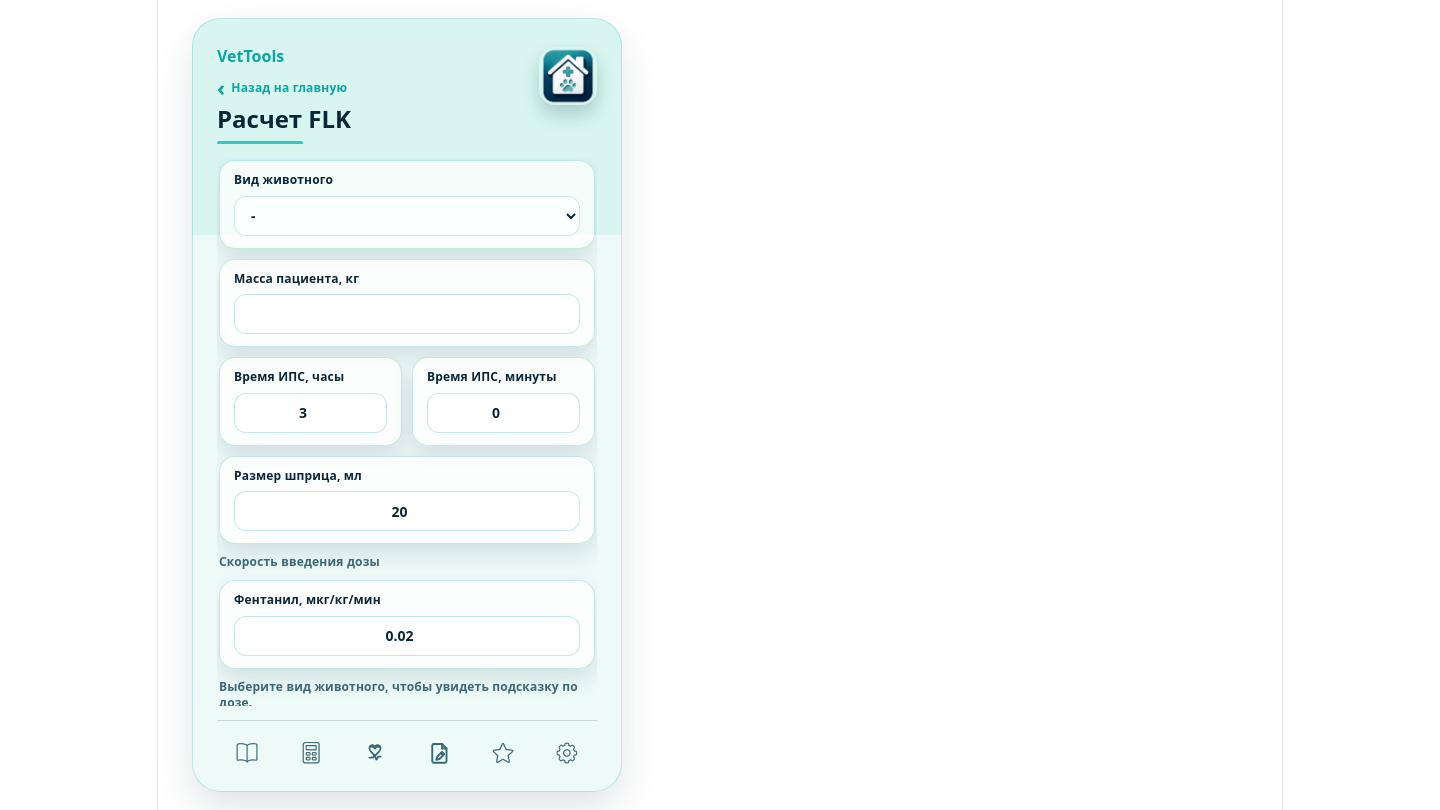
Test: FlkPage › warns when syringe volume is smaller than drug volume
Type "34.5" into the number field labelled "Масса пациента, кг". click: (407,314)
box: top-left (234, 294), bottom-right (580, 334)
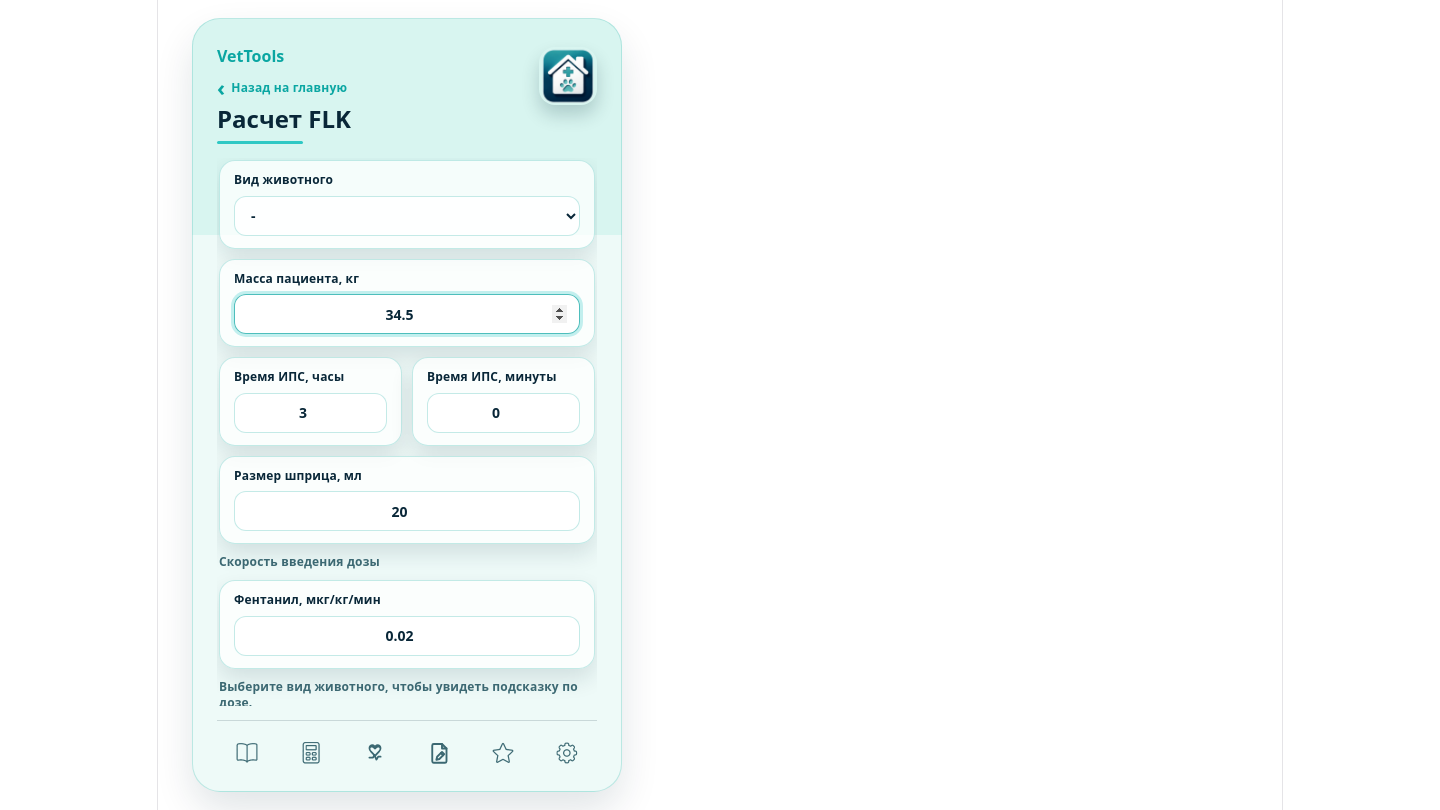
Replace the text in the number field labelled "Размер шприца, мл" with "5". click: (407,511)
box: top-left (234, 491), bottom-right (580, 531)
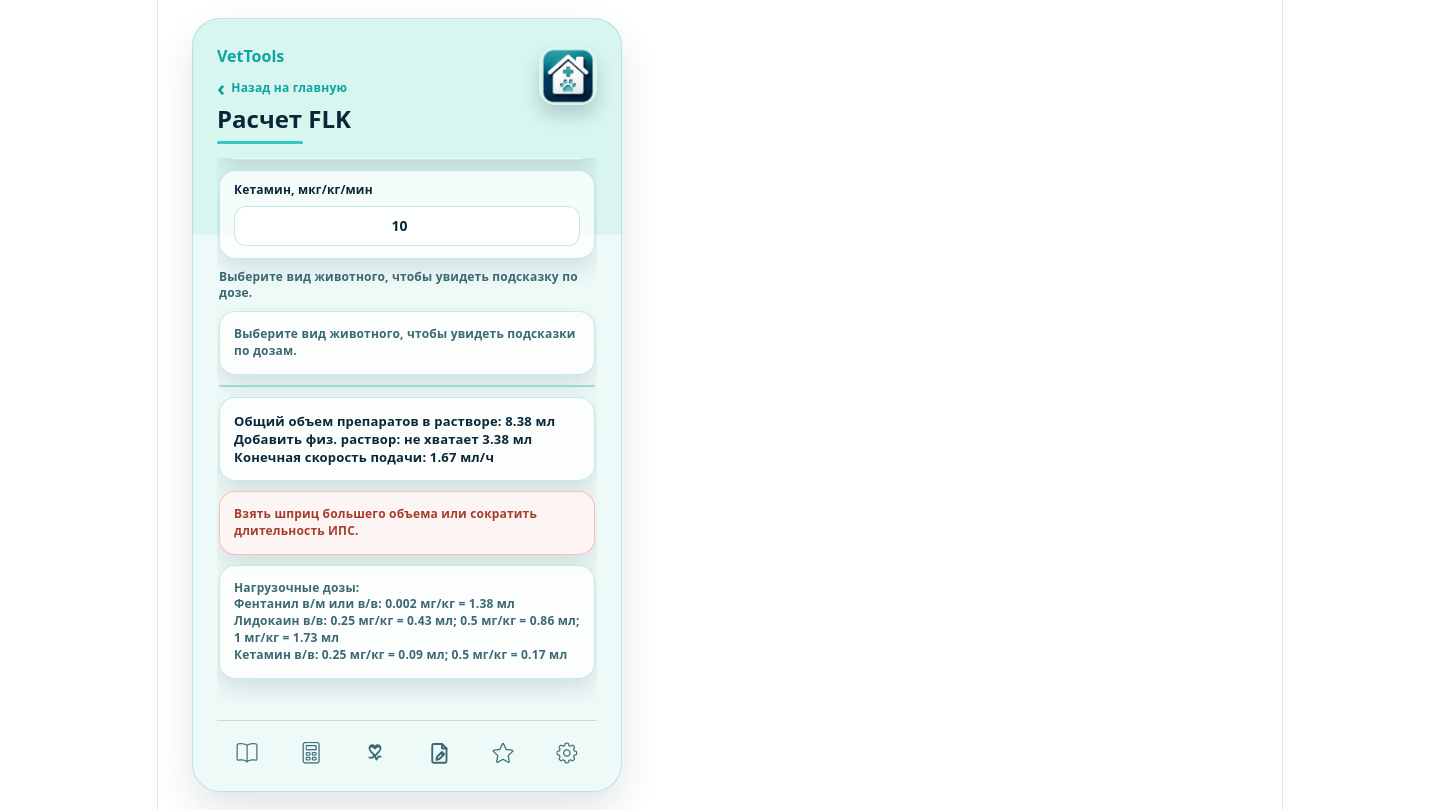
Now the text "не хватает 3.38 мл" is shown, box top-left (234, 412), bottom-right (555, 466)
Now the text "Взять шприц большего объема или сократить длительность ИПС." is shown, box top-left (219, 491), bottom-right (595, 555)
